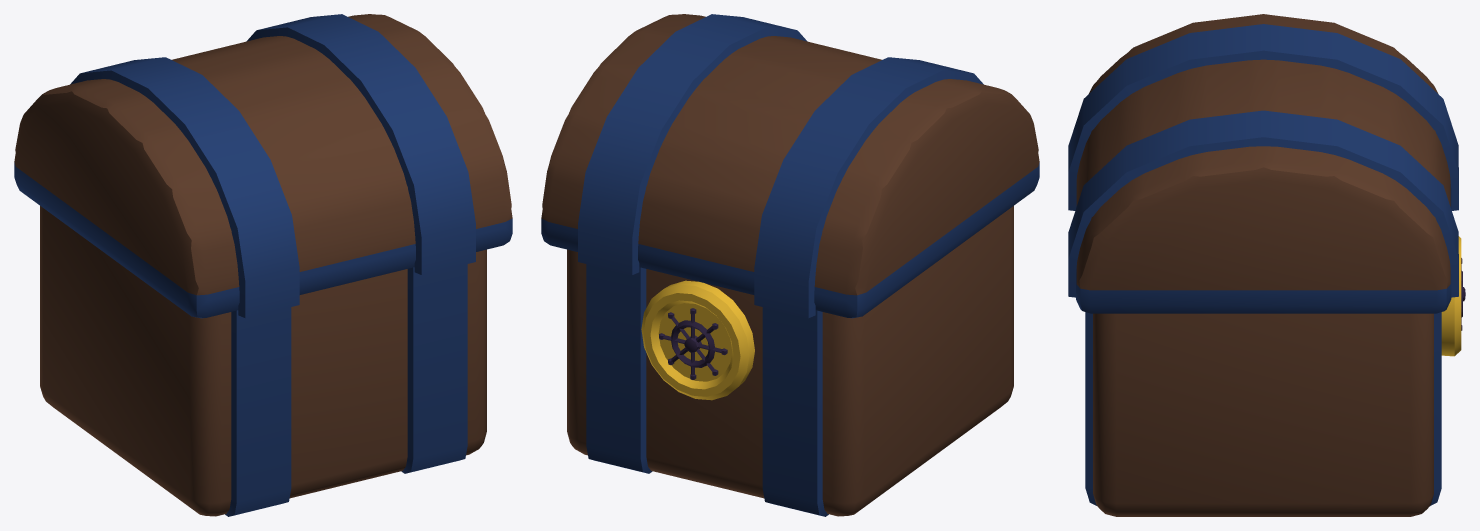
File: boite_accessoires_pirates.fbx
3 renders of one model, left to right at view 1: azimuth 30°, elevation 25°; view 2: azimuth 150°, elevation 25°; view 3: azimuth 270°, elevation 25°, orthographic.
Visible parts, largest first — view 1: Couvercle, Corps, RubanCouvercle, Ruban; view 2: Couvercle, Corps, RubanCouvercle, Ruban, Medaillon, Embleme; view 3: Couvercle, Corps, RubanCouvercle, Ruban, Medaillon.
Part boxes in pixels (x1=…): Couvercle: x1=14, y1=14, x2=512, y2=318; Corps: x1=40, y1=206, x2=486, y2=516; RubanCouvercle: x1=70, y1=14, x2=475, y2=318; Ruban: x1=225, y1=264, x2=467, y2=516; Couvercle: x1=541, y1=14, x2=1039, y2=318; Corps: x1=567, y1=206, x2=1013, y2=516; RubanCouvercle: x1=578, y1=14, x2=983, y2=318; Ruban: x1=586, y1=264, x2=828, y2=516; Medaillon: x1=641, y1=280, x2=754, y2=400; Embleme: x1=659, y1=308, x2=727, y2=379; Couvercle: x1=1076, y1=14, x2=1451, y2=313; Corps: x1=1093, y1=313, x2=1433, y2=516; RubanCouvercle: x1=1068, y1=24, x2=1458, y2=297; Ruban: x1=1085, y1=312, x2=1441, y2=506; Medaillon: x1=1441, y1=236, x2=1461, y2=356.
Bounding box in the file's own units: 0.88 × 0.963 × 0.932.
